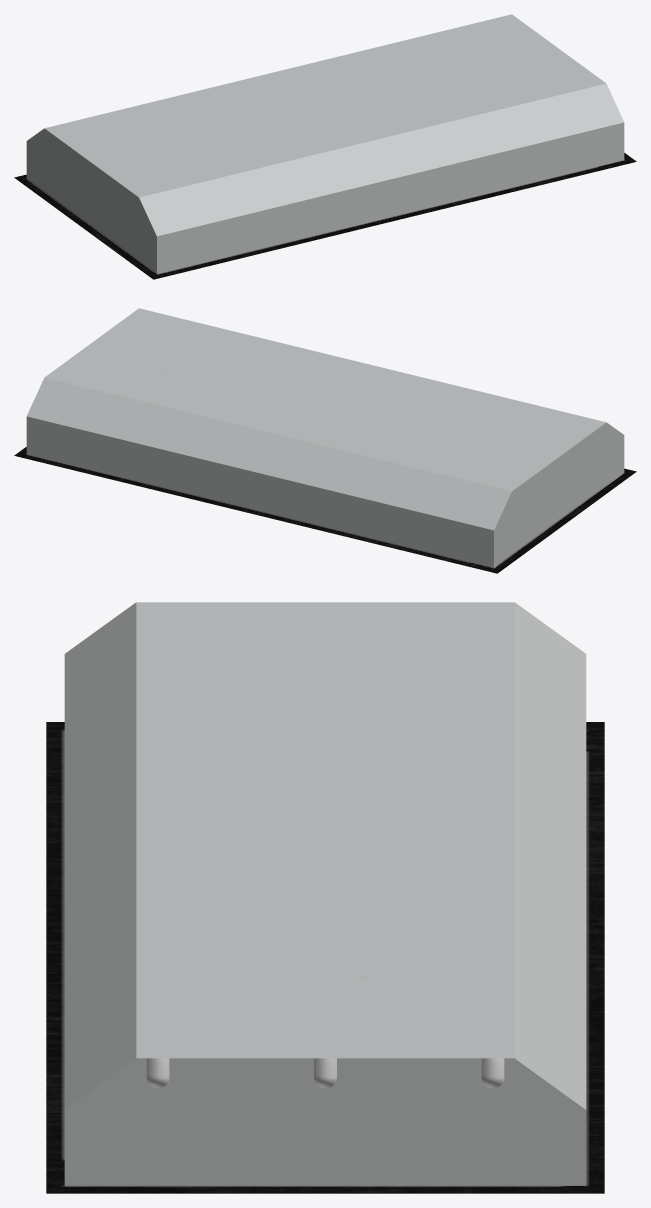
Rendered from BL Office Light L2M ALT.fbx.
3 renders of one model, top to bottom at view 1: azimuth 30°, elevation 25°; view 2: azimuth 150°, elevation 25°; view 3: azimuth 270°, elevation 25°, orthographic. The views are drawn at different scales.
Visible parts, largest first — view 1: BL Office Light L2M ALT; view 2: BL Office Light L2M ALT; view 3: BL Office Light L2M ALT.
Part boxes in pixels (box(x1,y1,x2,y2)): BL Office Light L2M ALT: box(14, 14, 636, 279); BL Office Light L2M ALT: box(14, 308, 636, 573); BL Office Light L2M ALT: box(46, 602, 604, 1193).
Size of the model in its own units: 2 by 0.252 by 1.
